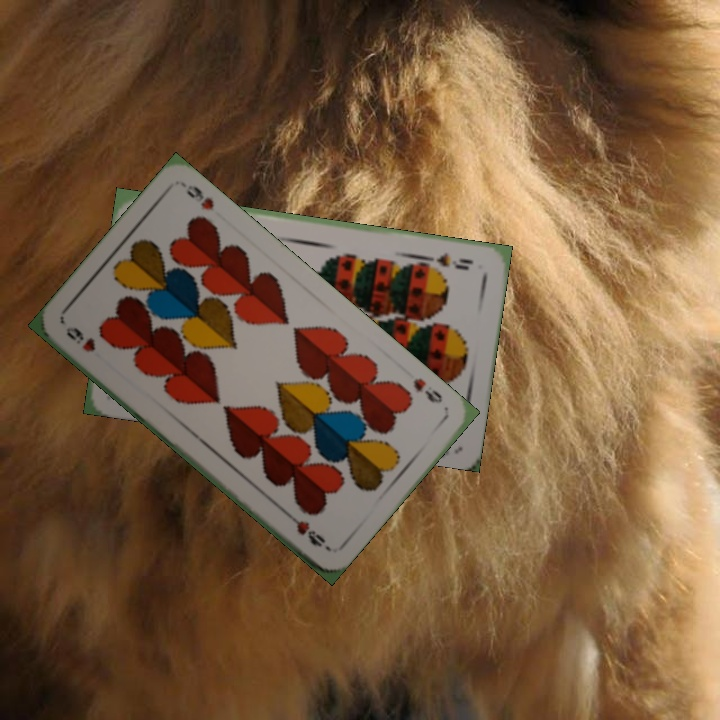H9: (61, 322, 98, 355), (409, 373, 446, 406)
S9: (424, 248, 477, 273)
